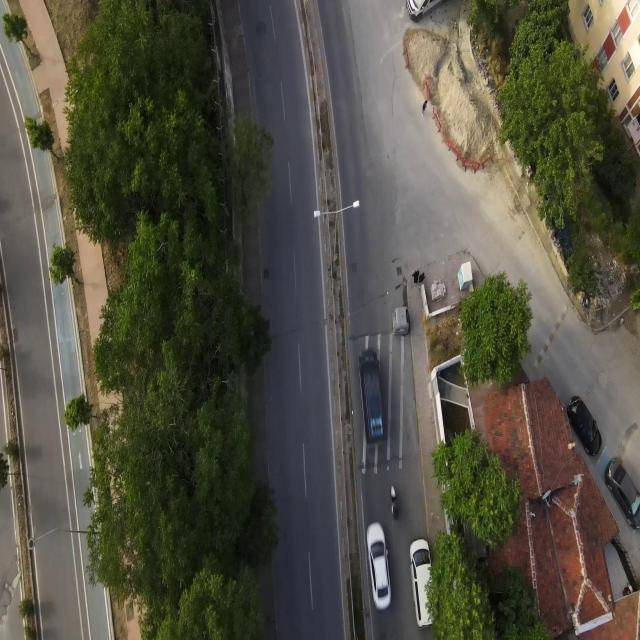p3rson: (412, 270, 419, 283), (422, 100, 427, 117), (419, 273, 426, 283)
